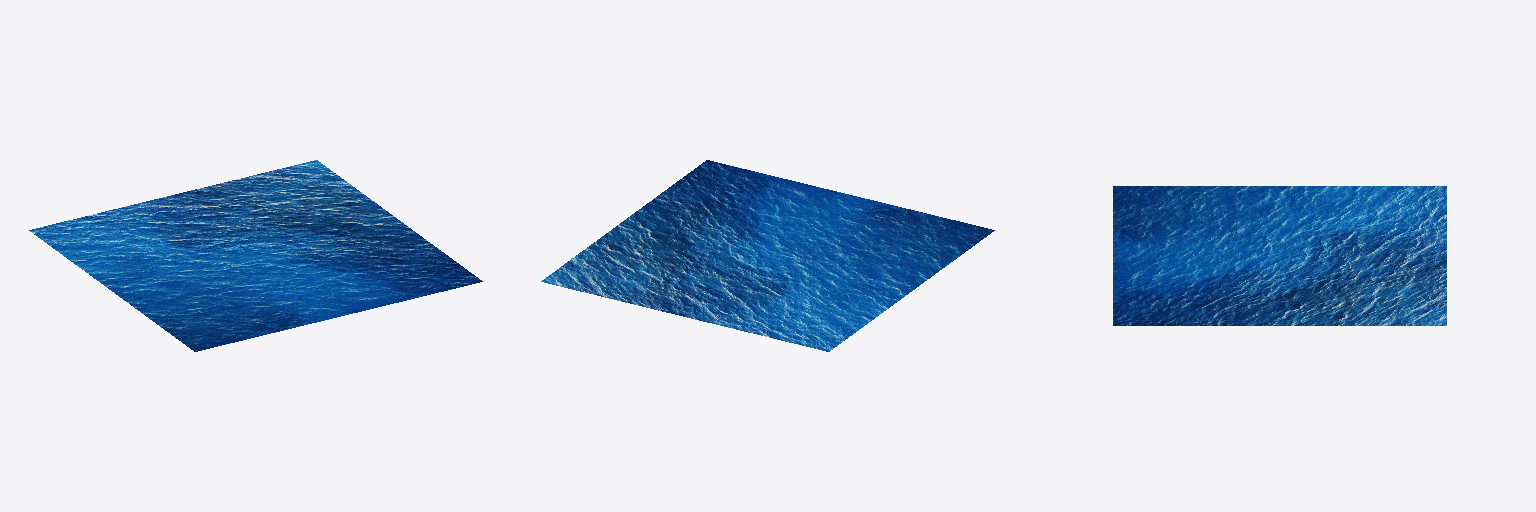
3 views of the same model, side by side, from view 1: azimuth 30°, elevation 25°; view 2: azimuth 150°, elevation 25°; view 3: azimuth 270°, elevation 25° (orthographic).
Visible parts, largest first — view 1: Plane; view 2: Plane; view 3: Plane.
Boxes of the visible parts, x1=… form: Plane: x1=29, y1=160, x2=482, y2=351; Plane: x1=541, y1=160, x2=994, y2=351; Plane: x1=1113, y1=186, x2=1446, y2=325.
Bounding box in the file's own units: 4 × 0 × 4.
Materials: 1 (1 with a texture image).